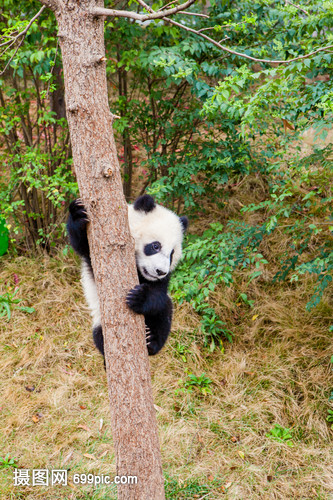panda: (65, 192, 182, 361)
